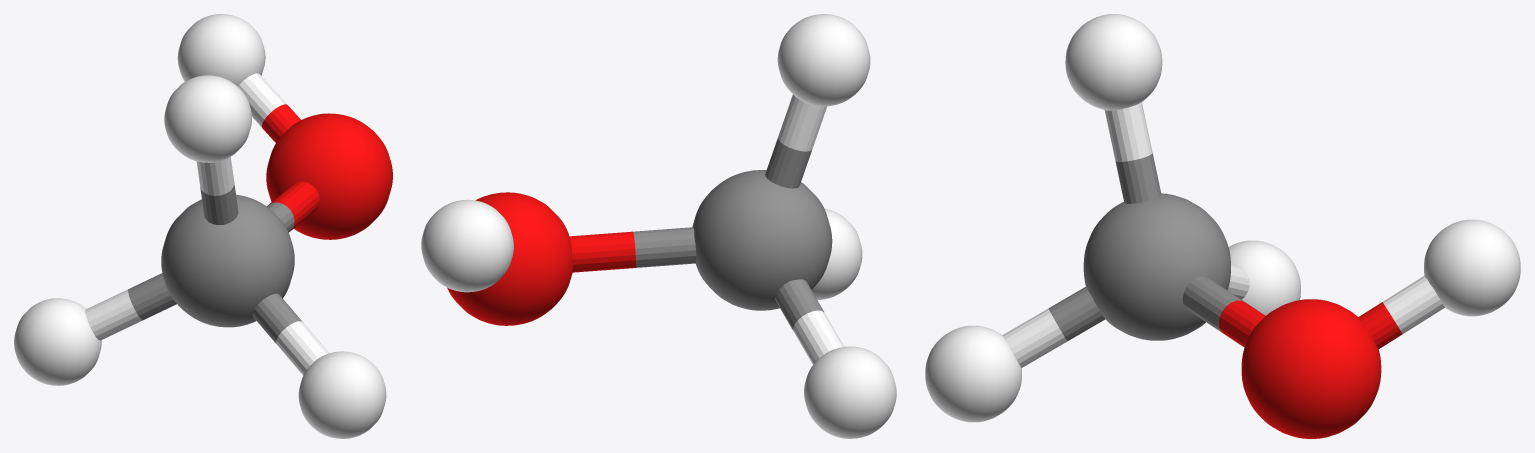
Rendered from Methanol.obj.
3 views of the same model, side by side, from view 1: azimuth 30°, elevation 25°; view 2: azimuth 150°, elevation 25°; view 3: azimuth 270°, elevation 25° (orthographic). The views are drawn at different scales.
Parts seen in each view (by area): view 1: Hydrogen_ball_SurfSphere.002, Carbon_ball_SurfSphere, Oxygen_ball_SurfSphere.001, Hydrogen_sticks_cylinder, Carbon_sticks_cylinder, Oxygen_sticks_cylinder; view 2: Hydrogen_ball_SurfSphere.002, Carbon_ball_SurfSphere, Oxygen_ball_SurfSphere.001, Carbon_sticks_cylinder, Hydrogen_sticks_cylinder, Oxygen_sticks_cylinder; view 3: Hydrogen_ball_SurfSphere.002, Carbon_ball_SurfSphere, Oxygen_ball_SurfSphere.001, Hydrogen_sticks_cylinder, Carbon_sticks_cylinder, Oxygen_sticks_cylinder.
Part boxes in pixels (box(x1,y1,x2,y2)): Hydrogen_ball_SurfSphere.002: box(14, 14, 386, 438); Carbon_ball_SurfSphere: box(161, 194, 294, 327); Oxygen_ball_SurfSphere.001: box(266, 113, 392, 239); Hydrogen_sticks_cylinder: box(85, 73, 328, 375); Carbon_sticks_cylinder: box(128, 183, 302, 343); Oxygen_sticks_cylinder: box(262, 104, 319, 230); Hydrogen_ball_SurfSphere.002: box(421, 14, 896, 438); Carbon_ball_SurfSphere: box(692, 170, 832, 310); Oxygen_ball_SurfSphere.001: box(447, 192, 572, 325); Carbon_sticks_cylinder: box(633, 138, 823, 330); Hydrogen_sticks_cylinder: box(778, 94, 844, 364); Oxygen_sticks_cylinder: box(569, 231, 635, 272); Hydrogen_ball_SurfSphere.002: box(925, 14, 1520, 422); Carbon_ball_SurfSphere: box(1083, 193, 1230, 340); Oxygen_ball_SurfSphere.001: box(1241, 299, 1381, 438); Hydrogen_sticks_cylinder: box(1002, 102, 1444, 367); Carbon_sticks_cylinder: box(1048, 153, 1244, 341); Oxygen_sticks_cylinder: box(1219, 300, 1402, 348).
Size of the model in its own units: 2.61 by 2.08 by 3.11.
